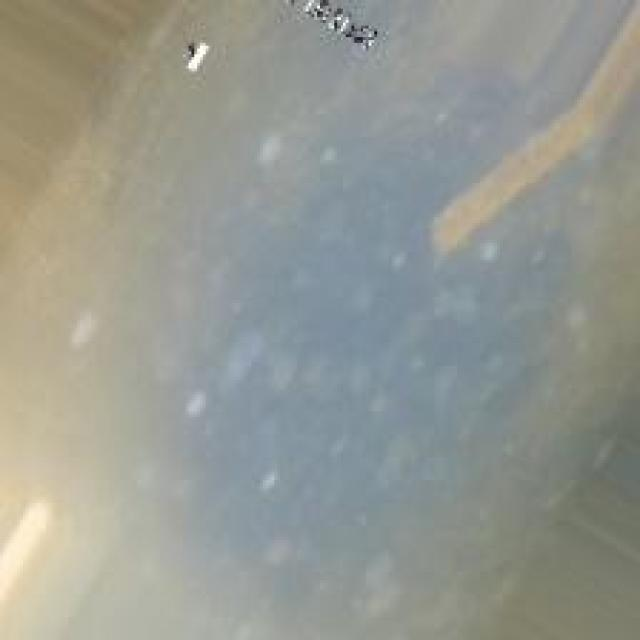ferrule: (400, 51, 634, 266)
